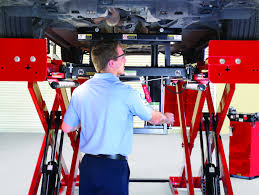Scissor Lift: (1, 1, 259, 187)
